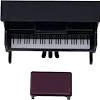Piano: (1, 1, 100, 72)
